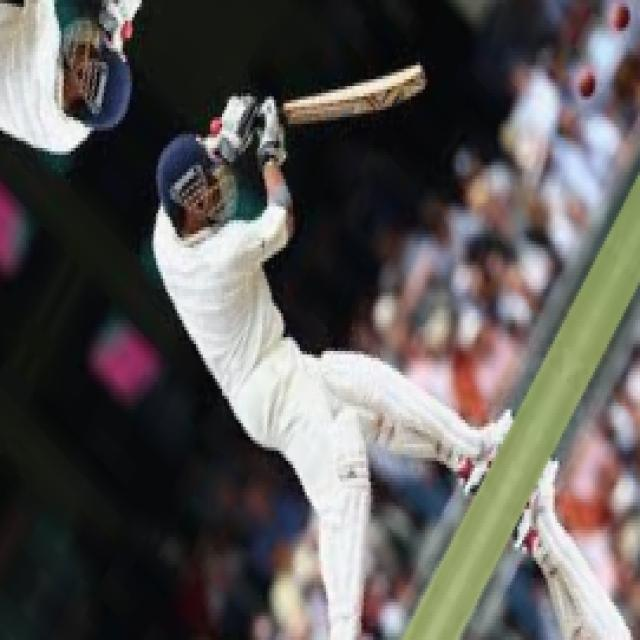bat: (266, 63, 446, 126), (404, 53, 439, 89)
